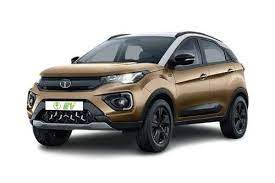Tata Nexon: (27, 31, 248, 156)
